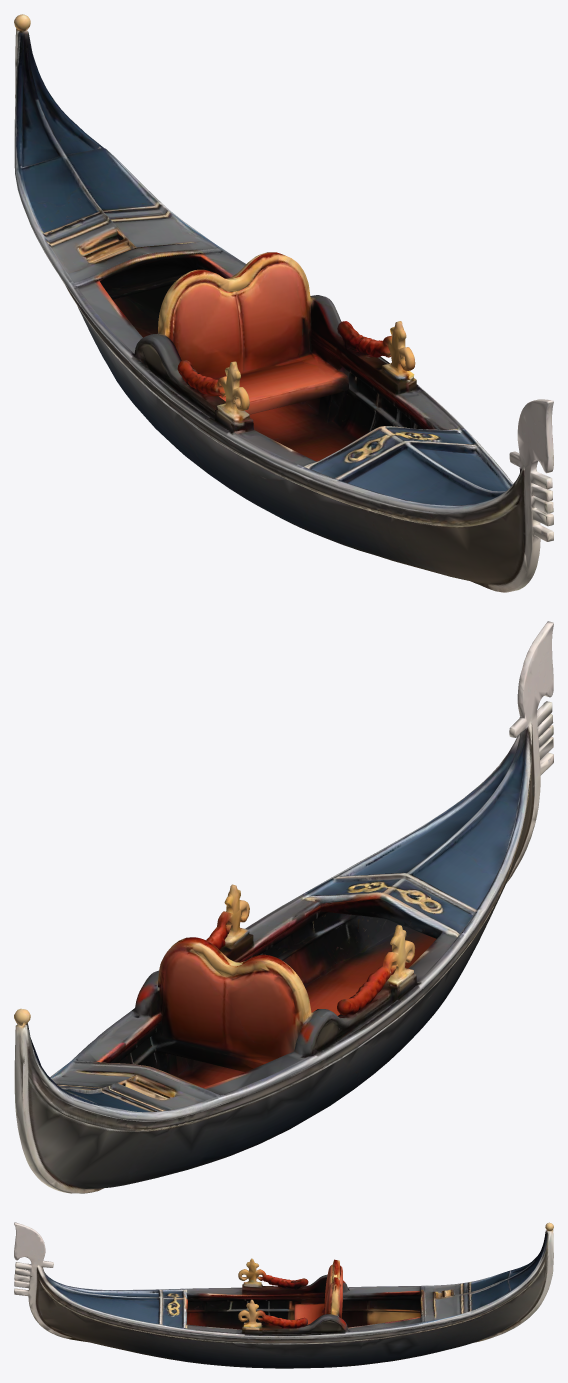
Rendered from venice_gondola_ride-C94X1571.glb.
The picture shows the model from 3 angles, top to bottom: view 1: azimuth 30°, elevation 25°; view 2: azimuth 150°, elevation 25°; view 3: azimuth 270°, elevation 25°; orthographic projection. The views are drawn at different scales.
Visible parts, largest first — view 1: node_0; view 2: node_0; view 3: node_0.
Boxes of the visible parts, left/top/right/bottom form: node_0: left=14, top=14, right=553, bottom=592; node_0: left=14, top=621, right=553, bottom=1193; node_0: left=14, top=1222, right=553, bottom=1368.
Size of the model in its own units: 0.2501 by 0.3055 by 1.16.
1 material, 1 textured.
